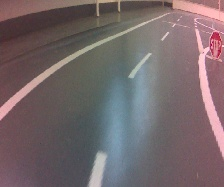stop sign: (207, 31, 223, 59)
